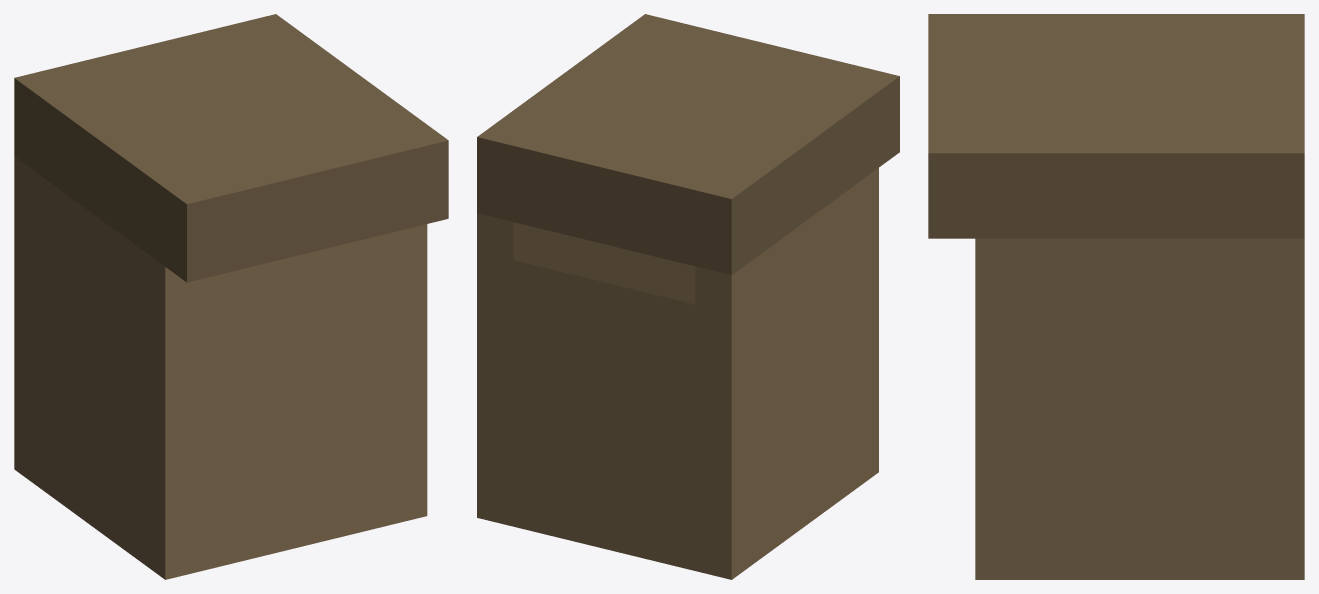
File: reloj_pie_roble_grande_01.glb
3 renders of one model, left to right at view 1: azimuth 30°, elevation 25°; view 2: azimuth 150°, elevation 25°; view 3: azimuth 270°, elevation 25°, orthographic. The views are drawn at different scales.
Visible parts, largest first — view 1: reloj_pie_roble_grande; view 2: reloj_pie_roble_grande; view 3: reloj_pie_roble_grande.
Boxes of the visible parts, <box> form: reloj_pie_roble_grande: <box>14,14,448,579</box>; reloj_pie_roble_grande: <box>477,14,899,579</box>; reloj_pie_roble_grande: <box>928,14,1304,579</box>.
Size of the model in its own units: 0.5 by 0.7143 by 0.5714.
